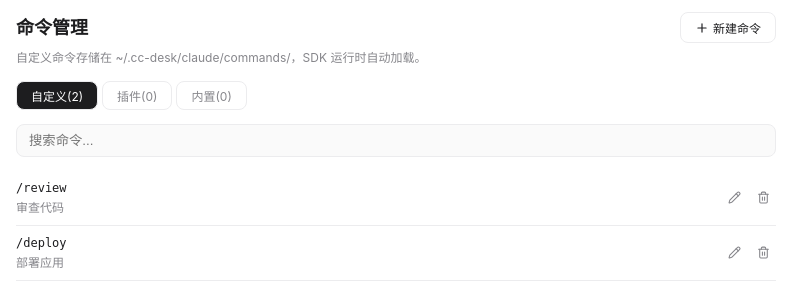
Test case: CommandSettings › 自定义 Tab 加载命令并支持搜索
Expected: the text "/review" is shown, [16,179,67,197]
Expected: the text "部署应用" is shown, [16,254,67,272]
Type "deploy" into the field with placeholder "搜索命令..." at (396, 140), box [16,124,776,157]
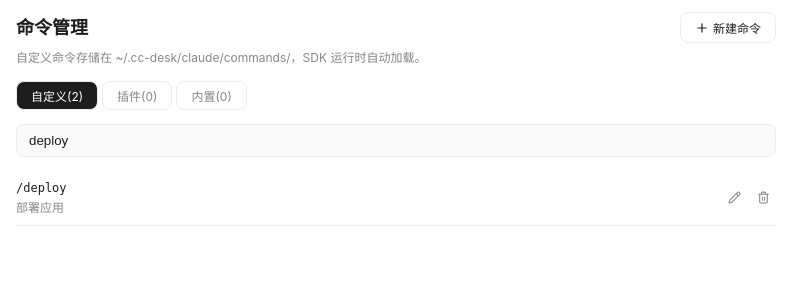
Expected: the text "/deploy" is shown, [16,179,67,197]
Now the text "/review" is gone
